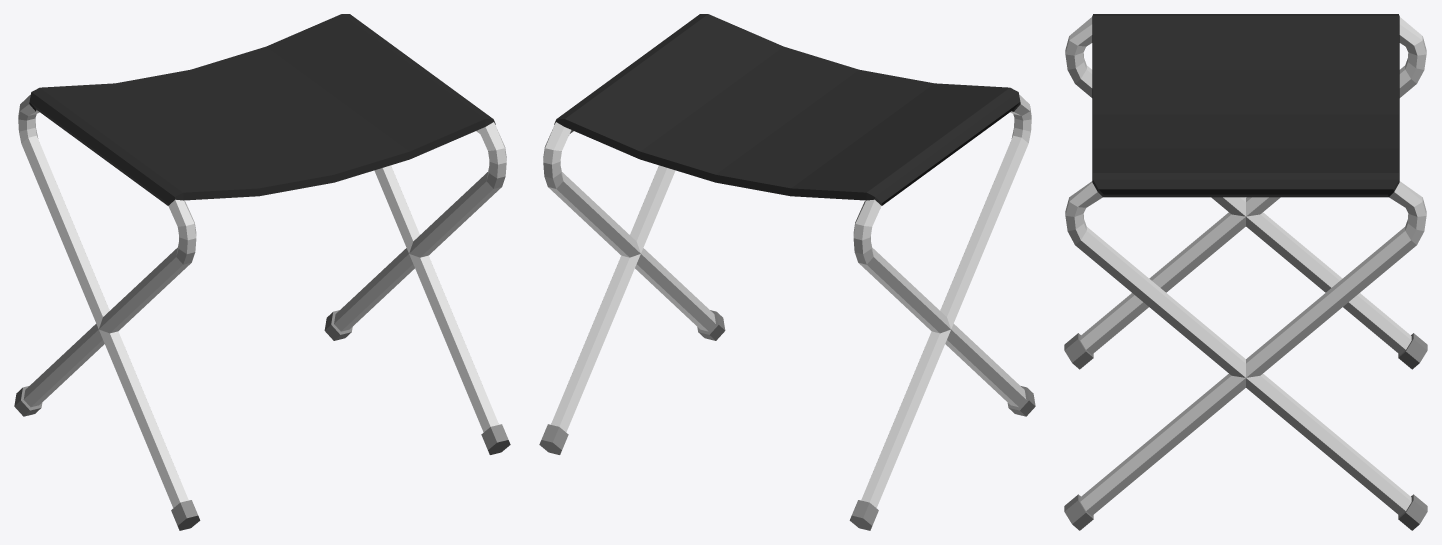
File: Chair_08.glb
3 views of the same model, side by side, from view 1: azimuth 30°, elevation 25°; view 2: azimuth 150°, elevation 25°; view 3: azimuth 270°, elevation 25° (orthographic). The views are drawn at different scales.
Visible parts, largest first — view 1: Chair_08; view 2: Chair_08; view 3: Chair_08.
Boxes of the visible parts, bbox=[...] form: Chair_08: bbox=[14, 14, 510, 530]; Chair_08: bbox=[539, 14, 1035, 530]; Chair_08: bbox=[1064, 14, 1427, 530].
Size of what is drawn, in the model's own units: 0.8877 by 0.8437 by 0.787.
1 material, 1 textured.
